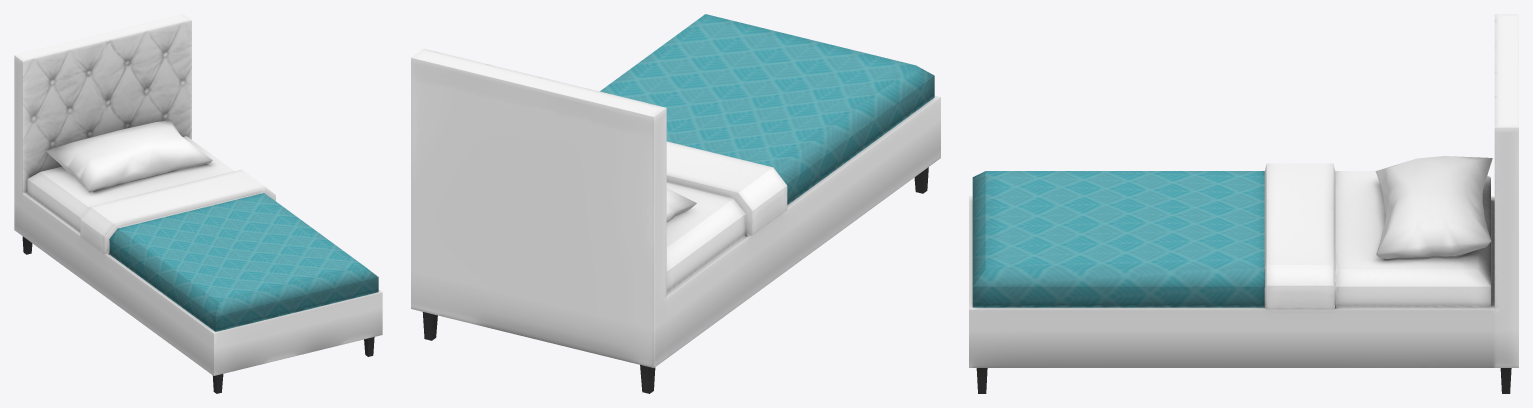
The model's file is smallbed1.glb.
3 renders of one model, left to right at view 1: azimuth 30°, elevation 25°; view 2: azimuth 150°, elevation 25°; view 3: azimuth 270°, elevation 25°, orthographic. The views are drawn at different scales.
Parts seen in each view (by area): view 1: Object_40; view 2: Object_40; view 3: Object_40.
Part boxes in pixels (x1,y1,x2,y2): Object_40: [14, 14, 382, 393]; Object_40: [411, 14, 940, 393]; Object_40: [969, 14, 1518, 393].
Bounding box in the file's own units: 2.1 × 2.3 × 4.24.
1 material, 1 textured.
